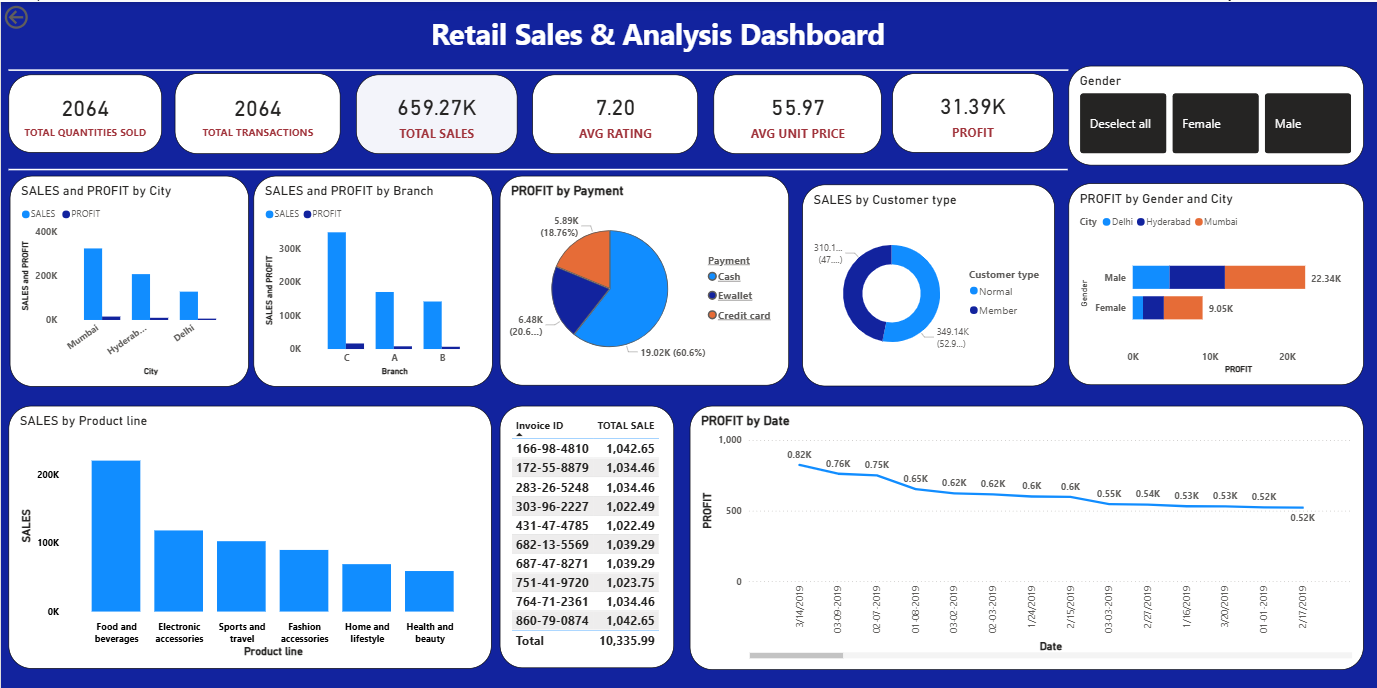

Layout of this report page (visuals, bound fields, positions):
{"tool":"powerbi","page":{"name":"Page 1","canvas":[1800,900],"ordinal":0},"visuals":[{"type":"textbox","box":[558.3,11.6,607.8,61.1],"z":0},{"type":"shape","box":[9.8,83.4,1386.6,11.4],"z":1000},{"type":"card","fields":{"Values":["Sum(Retail_india.Total)"]},"box":[464.5,95,211.1,104.1],"z":2000},{"type":"card","fields":{"Values":["Avg(Retail_india.Rating)"]},"box":[695.2,95,217.2,104.1],"z":3000},{"type":"actionButton","box":[0,0,100,40],"z":4000},{"type":"card","fields":{"Values":["CountNonNull(Retail_india.Quantity)"]},"box":[10.6,95,200.6,102.5],"z":5000},{"type":"card","fields":{"Values":["Count(Retail_india.Invoice ID)"]},"box":[227.7,93.5,217.2,105.6],"z":6000},{"type":"card","fields":{"Values":["Avg(Retail_india.Unit price)"]},"box":[932,95,220.2,104.1],"z":7000},{"type":"card","fields":{"Values":["Retail_india.PROFIT"]},"box":[1165.7,93.5,211.1,104.1],"z":8000},{"type":"shape","box":[9.9,213.1,1385.8,13.2],"z":9000},{"type":"clusteredColumnChart","fields":{"Category":["Retail_india.City"],"Y":["Sum(Retail_india.Total)","Retail_india.PROFIT"]},"box":[10.9,226.8,312.5,276.3],"z":10000},{"type":"clusteredColumnChart","fields":{"Category":["Retail_india.Branch"],"Y":["Sum(Retail_india.Total)","Retail_india.PROFIT"]},"box":[330.6,226.8,312.5,276.3],"z":11000},{"type":"clusteredColumnChart","fields":{"Category":["Retail_india.Product line"],"Y":["Sum(Retail_india.Total)"]},"box":[10.6,527.8,631.9,343.8],"z":12000},{"type":"pieChart","fields":{"Category":["Retail_india.Payment"],"Y":["Retail_india.PROFIT"]},"box":[653,227.7,378.5,274.5],"z":13000},{"type":"donutChart","fields":{"Category":["Retail_india.Customer type"],"Y":["Sum(Retail_india.Total)"]},"box":[1048.1,238.3,330.3,263.9],"z":14000},{"type":"tableEx","fields":{"Values":["Retail_india.Invoice ID","Sum(Retail_india.Total)"]},"box":[652.4,528.5,227.9,343.6],"z":15000},{"type":"barChart","fields":{"Y":["Retail_india.PROFIT"],"Category":["Retail_india.Gender"],"Series":["Retail_india.City"]},"box":[1395.7,237.8,386.5,264.3],"z":16000},{"type":"lineChart","fields":{"Y":["Retail_india.PROFIT"],"Category":["Retail_india.Date"]},"box":[900.2,528.5,882,345.2],"z":17000},{"type":"advancedSlicerVisual","fields":{"Values":["Retail_india.Gender"]},"box":[1395.7,82.6,386.5,130.5],"z":18000}]}

Visuals, with their boxes in screenshot pixels (x1, y1, x2, y2), scaled from the page's 1800x900 canvas onto the 1377x688 screenshot:
textbox: [left=427, top=9, right=892, bottom=56]
shape: [left=7, top=64, right=1068, bottom=72]
card - Sum(Retail_india.Total): [left=355, top=73, right=517, bottom=152]
card - Avg(Retail_india.Rating): [left=532, top=73, right=698, bottom=152]
actionButton: [left=0, top=0, right=76, bottom=31]
card - CountNonNull(Retail_india.Quantity): [left=8, top=73, right=162, bottom=151]
card - Count(Retail_india.Invoice ID): [left=174, top=71, right=340, bottom=152]
card - Avg(Retail_india.Unit price): [left=713, top=73, right=881, bottom=152]
card - Retail_india.PROFIT: [left=892, top=71, right=1053, bottom=151]
shape: [left=8, top=163, right=1068, bottom=173]
clusteredColumnChart - Retail_india.City x Sum(Retail_india.Total): [left=8, top=173, right=247, bottom=385]
clusteredColumnChart - Retail_india.Branch x Sum(Retail_india.Total): [left=253, top=173, right=492, bottom=385]
clusteredColumnChart - Retail_india.Product line x Sum(Retail_india.Total): [left=8, top=403, right=492, bottom=666]
pieChart - Retail_india.Payment x Retail_india.PROFIT: [left=500, top=174, right=789, bottom=384]
donutChart - Retail_india.Customer type x Sum(Retail_india.Total): [left=802, top=182, right=1054, bottom=384]
tableEx - Retail_india.Invoice ID x Sum(Retail_india.Total): [left=499, top=404, right=673, bottom=667]
barChart - Retail_india.PROFIT x Retail_india.Gender: [left=1068, top=182, right=1363, bottom=384]
lineChart - Retail_india.PROFIT x Retail_india.Date: [left=689, top=404, right=1363, bottom=668]
advancedSlicerVisual - Retail_india.Gender: [left=1068, top=63, right=1363, bottom=163]
